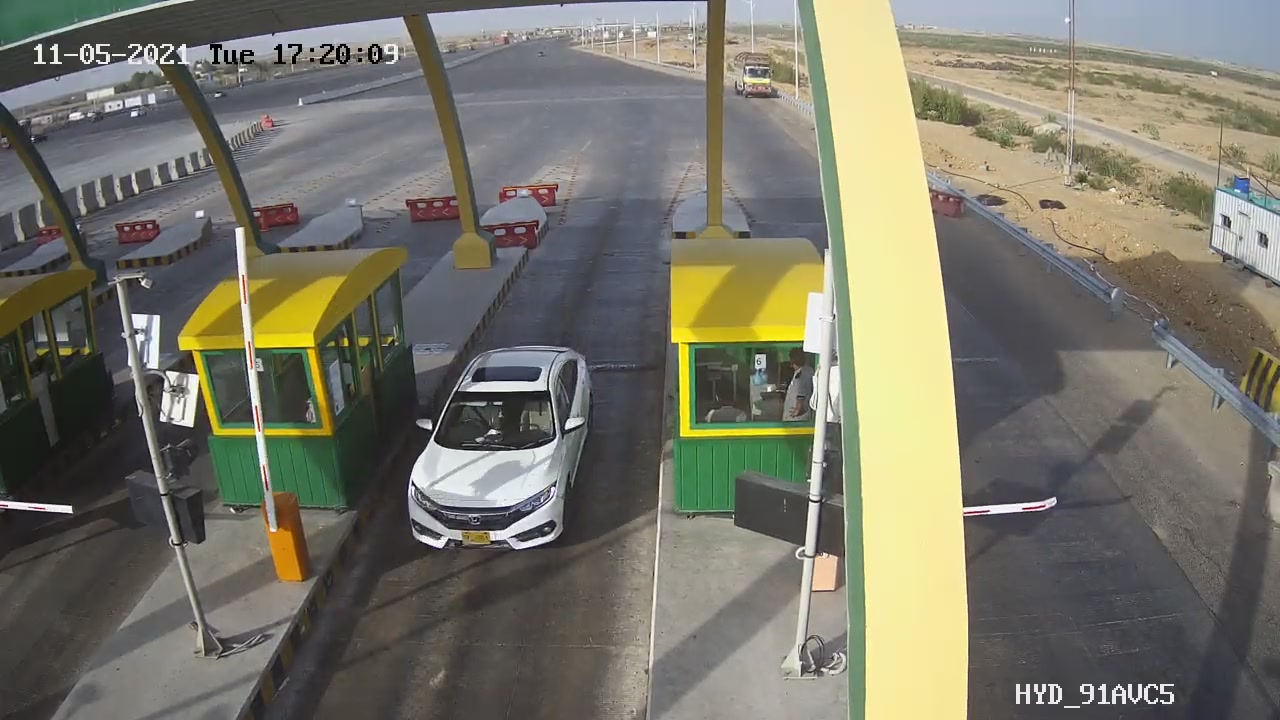F1: (392, 330, 611, 569)
